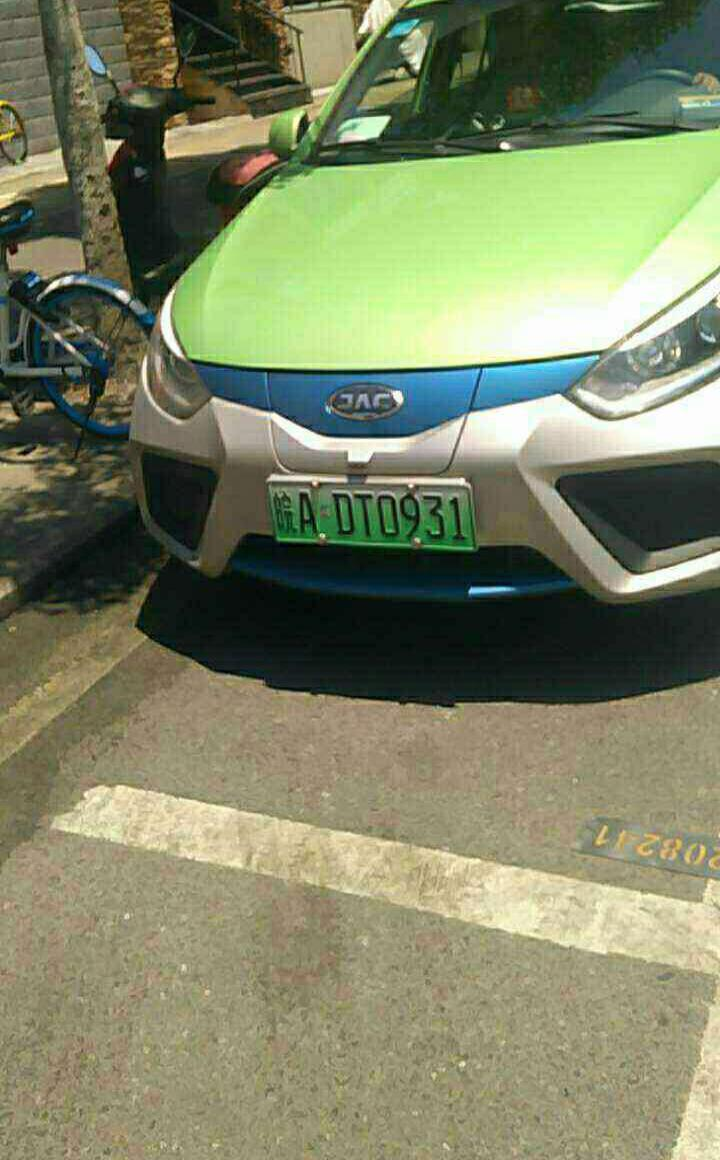car: (266, 475, 479, 551)
